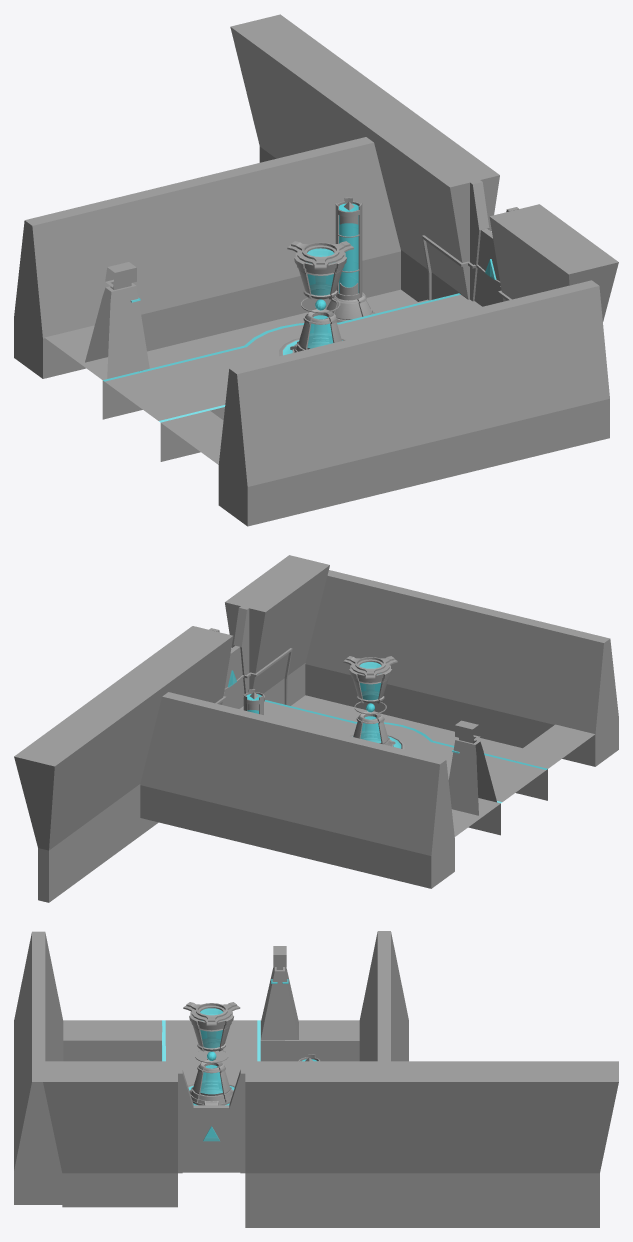
The model's file is L1_room 4 models_no texture.fbx.
3 renders of one model, top to bottom at view 1: azimuth 30°, elevation 25°; view 2: azimuth 150°, elevation 25°; view 3: azimuth 270°, elevation 25°, orthographic. The views are drawn at different scales.
Visible parts, largest first — view 1: level_rm4_wall_1, level_rm4_wall_2, lab_door_room4_walls_left, L1_RM04_ground1, lab_door_room4_wall_right, L1_RM04_ground2, level_rm4_wall_column, energy_machine_top, energy_clolumn_frame, energy_machine_base, energy_column_light, lab_door_room4_left_door (+1 smaller); view 2: level_rm4_wall_2, level_rm4_wall_1, lab_door_room4_walls_left, lab_door_room4_wall_right, L1_RM04_ground1, L1_RM04_ground2, level_rm4_wall_column, energy_machine_top, energy_machine_base, lab_door_room4_right_door; view 3: lab_door_room4_walls_left, lab_door_room4_wall_right, level_rm4_wall_1, L1_RM04_ground2, level_rm4_wall_2, L1_RM04_ground1, level_rm4_wall_column, energy_machine_top, lab_door_room4_left_door, lab_door_room4_right_door, energy_machine_base, energy_machine_top_light (+1 smaller).
Part boxes in pixels (box(x1,y1,x2,y2)): level_rm4_wall_1: box(218, 280, 609, 526); level_rm4_wall_2: box(14, 137, 400, 378); lab_door_room4_walls_left: box(230, 14, 499, 301); L1_RM04_ground1: box(102, 293, 481, 461); lab_door_room4_wall_right: box(489, 204, 618, 321); L1_RM04_ground2: box(45, 289, 417, 464); level_rm4_wall_column: box(85, 262, 149, 378); energy_machine_top: box(287, 241, 353, 299); energy_clolumn_frame: box(335, 197, 362, 300); energy_machine_base: box(290, 308, 341, 352); energy_column_light: box(339, 203, 358, 293); lab_door_room4_left_door: box(474, 228, 495, 306); level_rm4_wall_2: box(140, 692, 454, 888); level_rm4_wall_1: box(305, 570, 618, 766); lab_door_room4_walls_left: box(14, 626, 233, 902); lab_door_room4_wall_right: box(225, 555, 329, 705); L1_RM04_ground1: box(239, 700, 547, 835); L1_RM04_ground2: box(291, 695, 594, 836); level_rm4_wall_column: box(448, 720, 496, 815); energy_machine_top: box(343, 656, 397, 703); energy_machine_base: box(353, 710, 395, 746); lab_door_room4_right_door: box(228, 645, 244, 708); lab_door_room4_walls_left: box(229, 1061, 618, 1227); lab_door_room4_wall_right: box(43, 1061, 193, 1207); level_rm4_wall_1: box(14, 931, 63, 1204); L1_RM04_ground2: box(63, 1020, 359, 1061); level_rm4_wall_2: box(359, 931, 408, 1061); L1_RM04_ground1: box(162, 1020, 260, 1102); level_rm4_wall_column: box(261, 946, 298, 1039); energy_machine_top: box(183, 1002, 240, 1051); lab_door_room4_left_door: box(211, 1105, 240, 1172); lab_door_room4_right_door: box(183, 1105, 211, 1172); energy_machine_base: box(189, 1059, 233, 1105); energy_machine_top_light: box(200, 1008, 223, 1048).
Size of the model in its own units: 3884 by 1719 by 6135.
